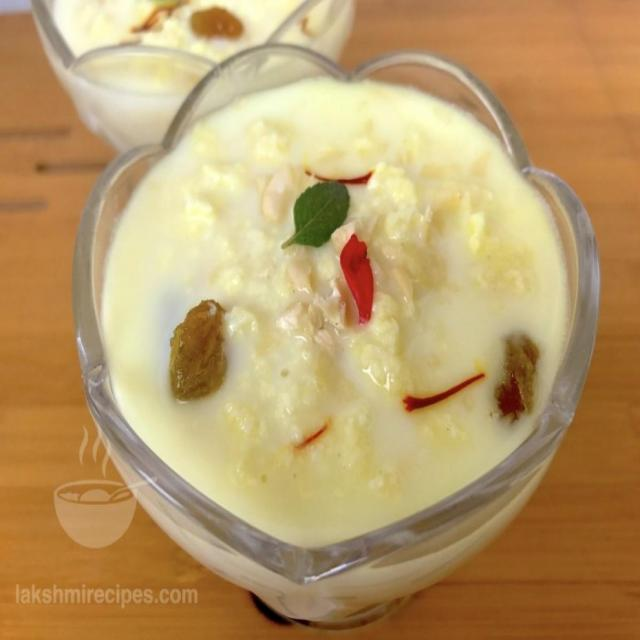Kheer: (111, 73, 568, 523)
